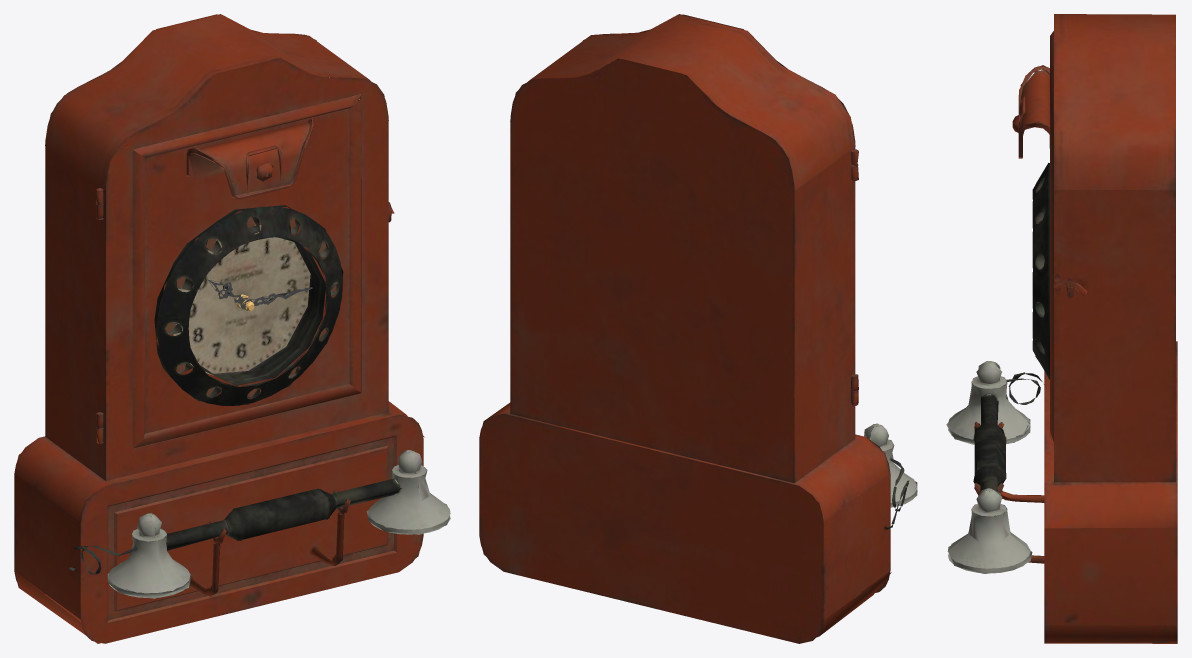
The model's file is rotary_phone.glb.
The picture shows the model from 3 angles, left to right: view 1: azimuth 30°, elevation 25°; view 2: azimuth 150°, elevation 25°; view 3: azimuth 270°, elevation 25°; orthographic projection.
Visible parts, largest first — view 1: vintage_telephone_wall_clock; view 2: vintage_telephone_wall_clock; view 3: vintage_telephone_wall_clock.
Part boxes in pixels (left/top/right/bottom): vintage_telephone_wall_clock: left=14, top=14, right=450, bottom=643; vintage_telephone_wall_clock: left=479, top=14, right=917, bottom=643; vintage_telephone_wall_clock: left=946, top=14, right=1177, bottom=643.
Bounding box in the file's own units: 0.3446 × 0.5005 × 0.194.
1 material, 1 textured.
